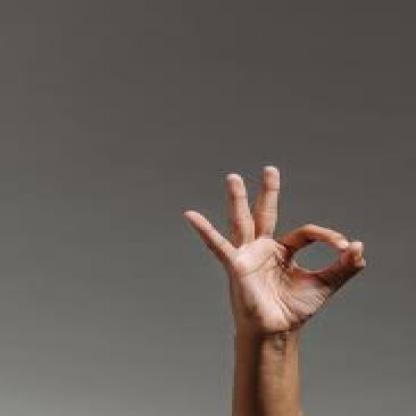ok: (173, 160, 376, 337)
